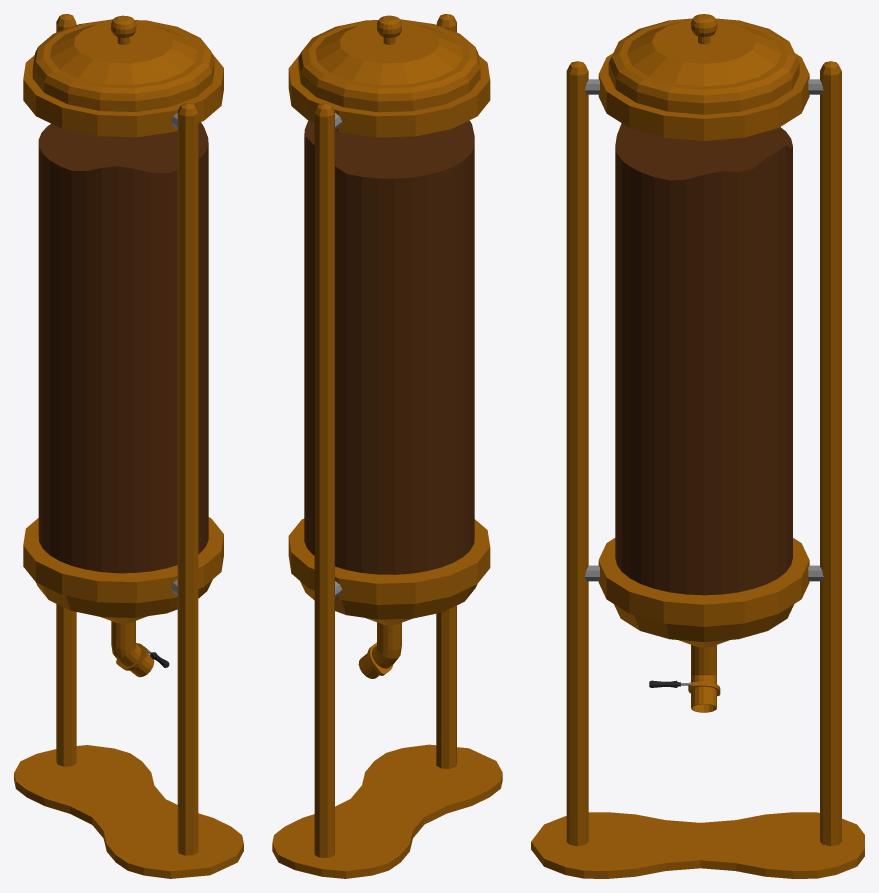
Rendered from silo.glb.
The picture shows the model from 3 angles, left to right: view 1: azimuth 30°, elevation 25°; view 2: azimuth 150°, elevation 25°; view 3: azimuth 270°, elevation 25°; orthographic projection. The views are drawn at different scales.
Parts seen in each view (by area): view 1: Cylinder.004; view 2: Cylinder.004; view 3: Cylinder.004.
Boxes of the visible parts, bbox=[...] form: Cylinder.004: bbox=[14, 14, 243, 878]; Cylinder.004: bbox=[272, 14, 502, 878]; Cylinder.004: bbox=[531, 14, 864, 878].
Bounding box in the file's own units: 2 × 8.68 × 3.16.
